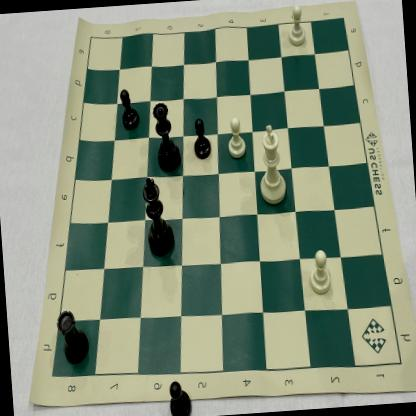black-king: (138, 173, 179, 262)
black-pawn: (190, 116, 215, 165), (118, 85, 142, 132)
black-queen: (152, 92, 182, 176)
black-rook: (55, 306, 95, 368)
white-king: (254, 120, 292, 209)
white-pawn: (305, 246, 338, 298), (283, 3, 310, 52), (224, 113, 250, 161)
